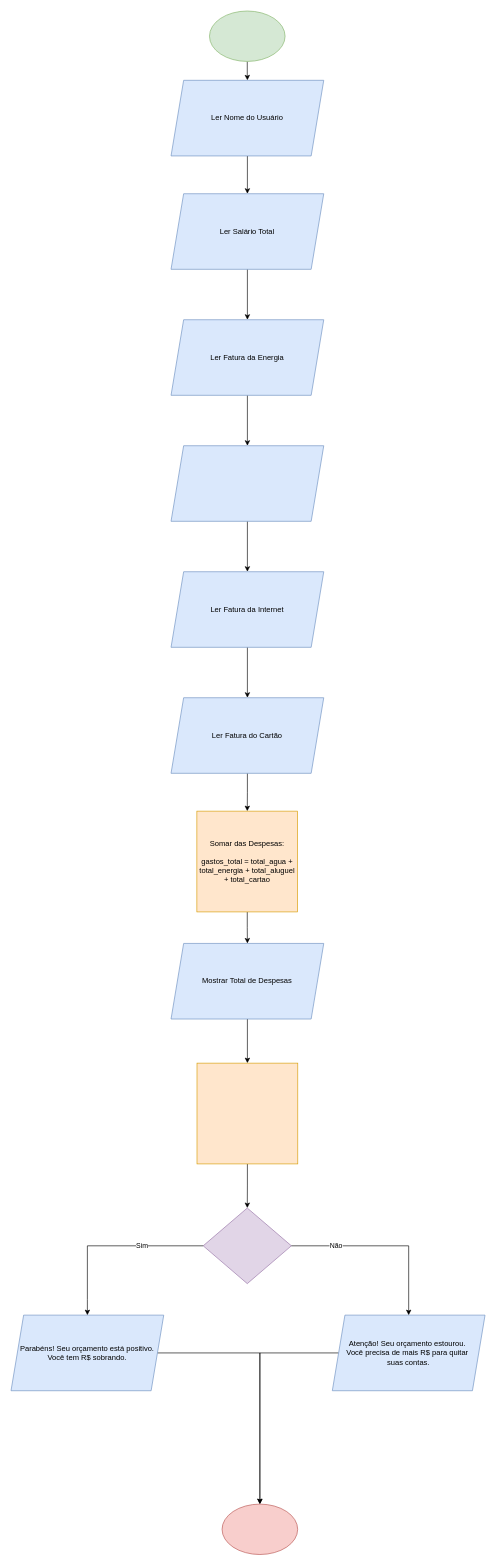
This 496x1566 diagram has some shape labels left out. The shapes that lost their labels are listed below. From the top down, each one's centre as x and y in pixels, then its label:
At pixel 247 35: "Início".
At pixel 247 483: "Ler Fatura da Água".
At pixel 247 1113: "Cálculo de Saldo: saldo_final = renda_mensal - gastos_total".
At pixel 247 1245: "saldo_final >= 0?".
At pixel 259 1529: "Fim".
